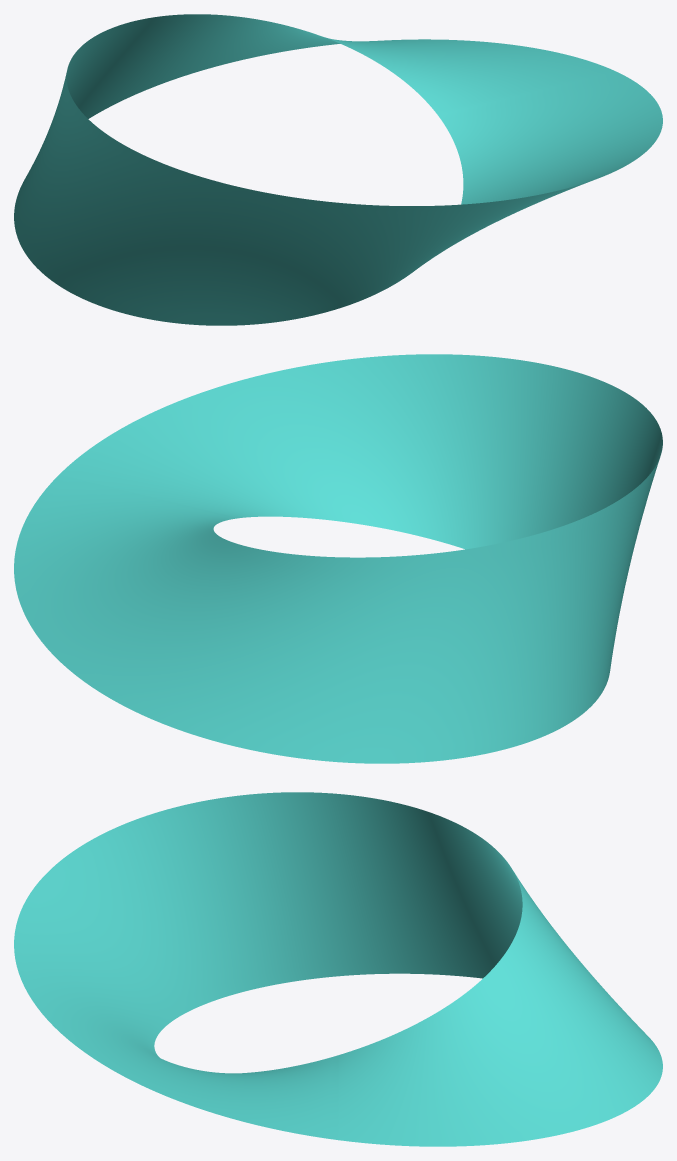
The model's file is mobius.glb.
The picture shows the model from 3 angles, top to bottom: view 1: azimuth 30°, elevation 25°; view 2: azimuth 150°, elevation 25°; view 3: azimuth 270°, elevation 25°; orthographic projection. The views are drawn at different scales.
Bounding box in the file's own units: 0.7258 × 0.24 × 0.7741.
